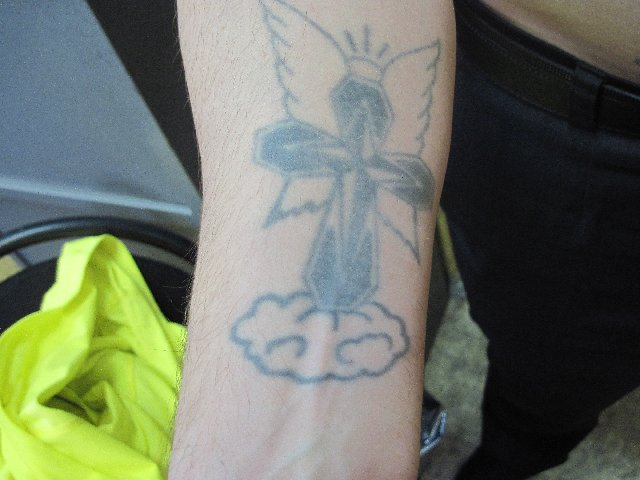tatu9_krest: (239, 68, 446, 320)
